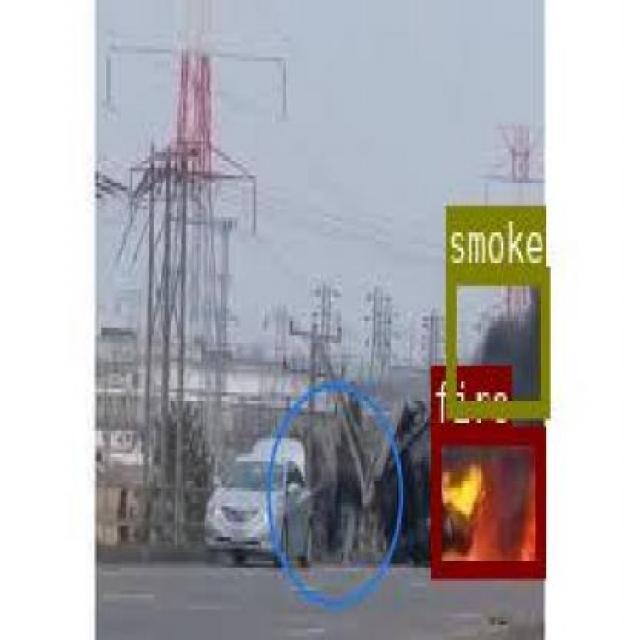Fire: (428, 423, 542, 572)
Smoke: (444, 264, 546, 416)
